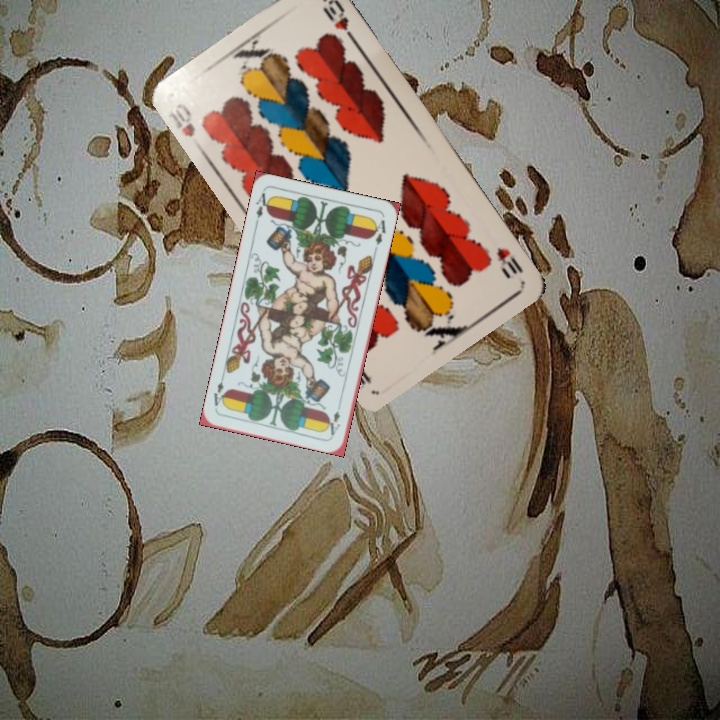EA: (251, 189, 274, 228), (326, 407, 343, 438)
H10: (165, 99, 198, 140), (492, 243, 526, 281)
